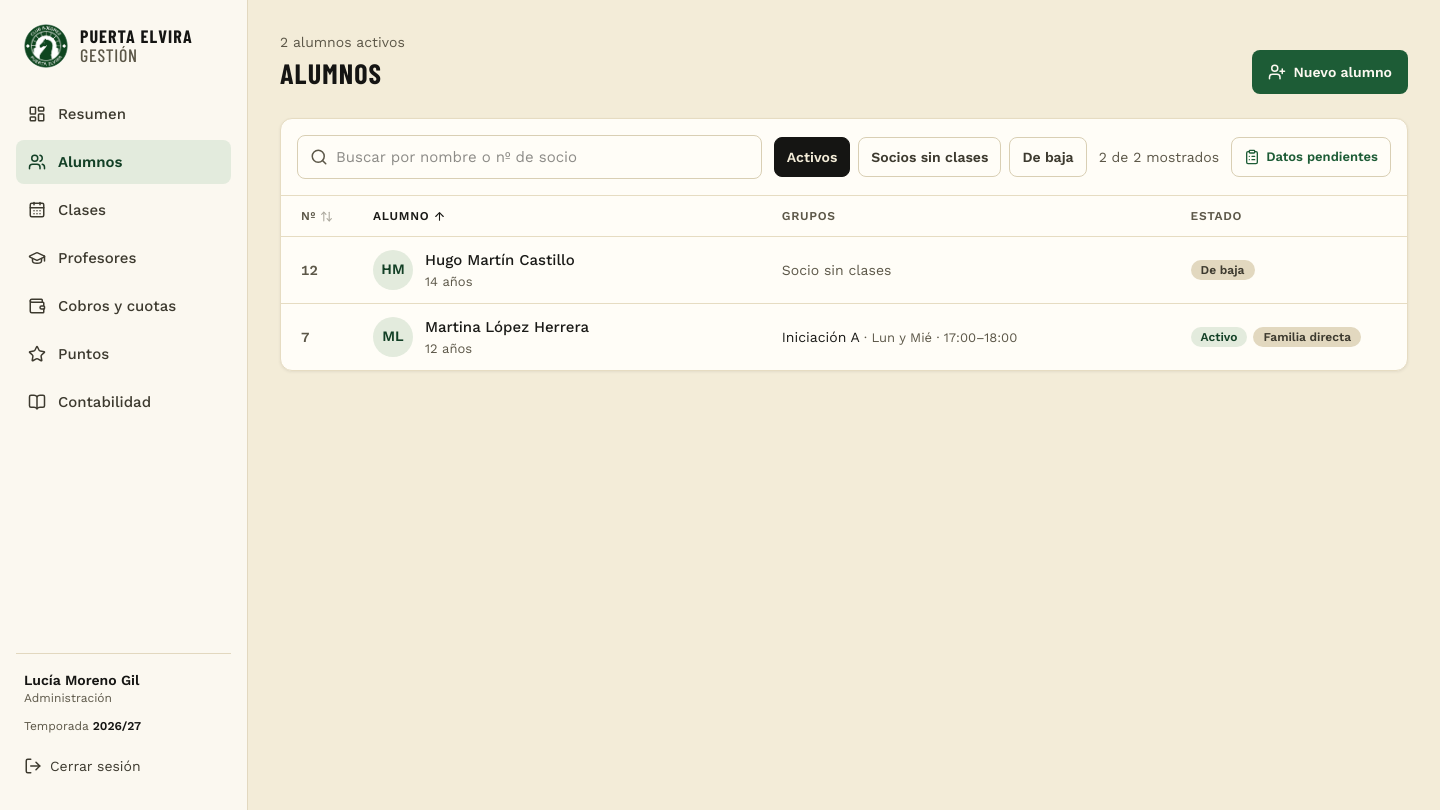
Test: Alumnos › should search by name after a short pause
Step 1. Type "lopez" into the search field named "Buscar alumnos" → [542, 157], box [336,136,749,178]
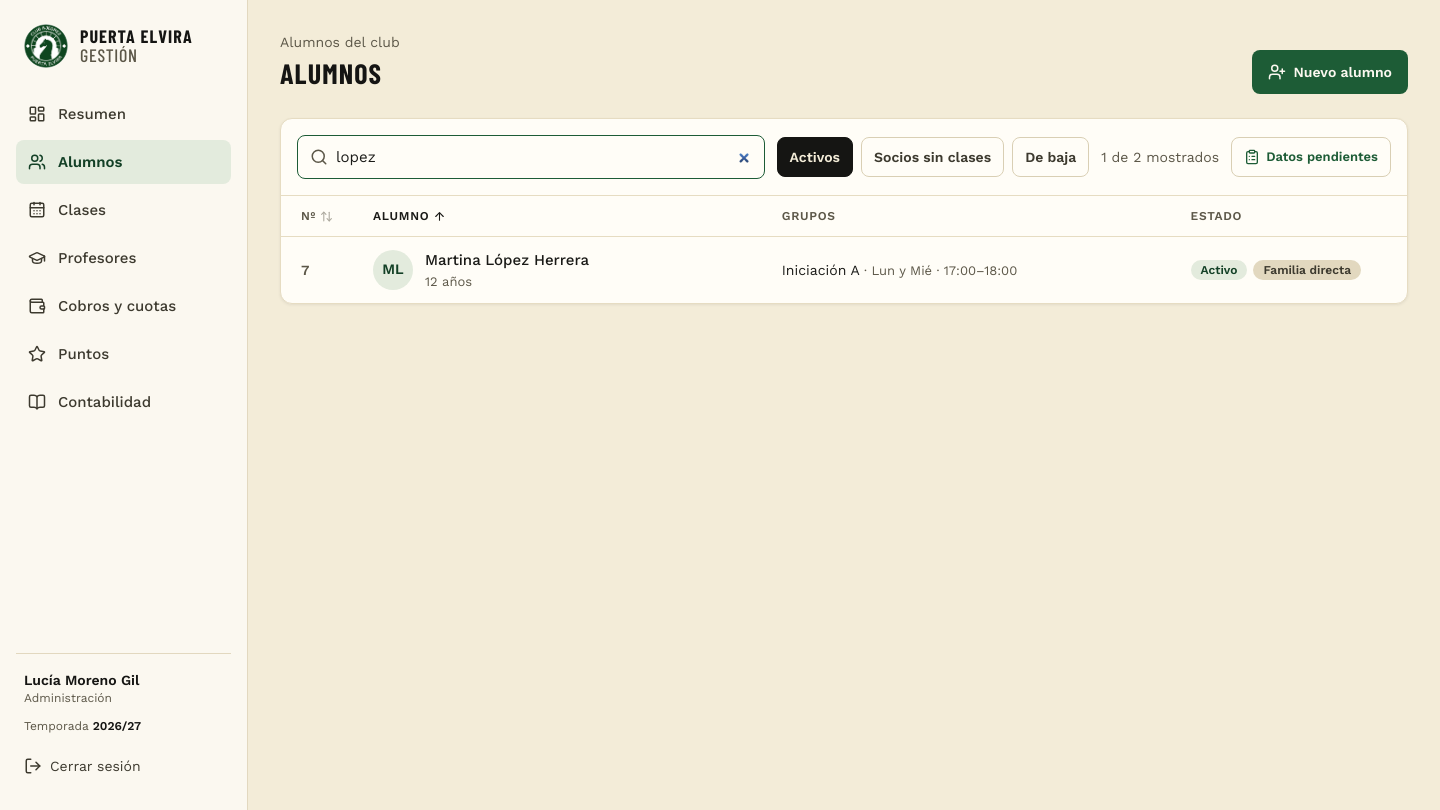
Check: the text "1 de 2 mostrados" is shown, box [1101,147,1219,167]
